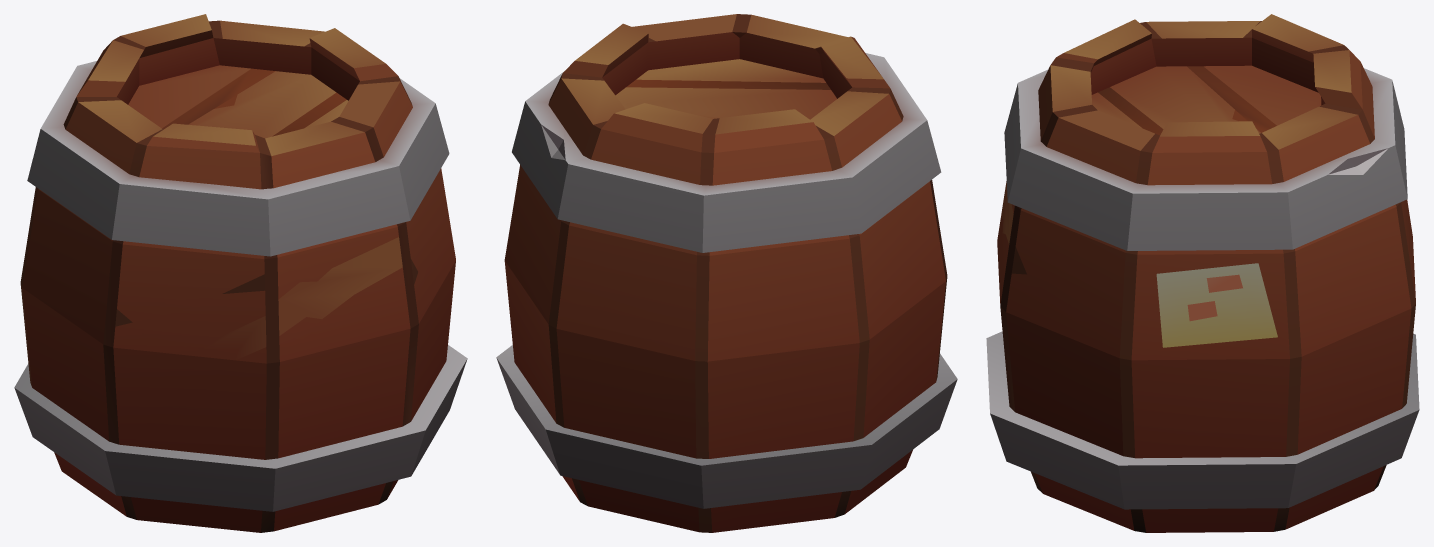
The model's file is barrel.fbx.
The picture shows the model from 3 angles, left to right: view 1: azimuth 30°, elevation 25°; view 2: azimuth 150°, elevation 25°; view 3: azimuth 270°, elevation 25°; orthographic projection.
Visible parts, largest first — view 1: Circle; view 2: Circle; view 3: Circle.
Part boxes in pixels (box(x1,y1,x2,y2)): Circle: box(14, 14, 467, 532); Circle: box(496, 14, 957, 532); Circle: box(986, 14, 1419, 532).
Size of the model in its own units: 23.25 by 22.97 by 23.25.
